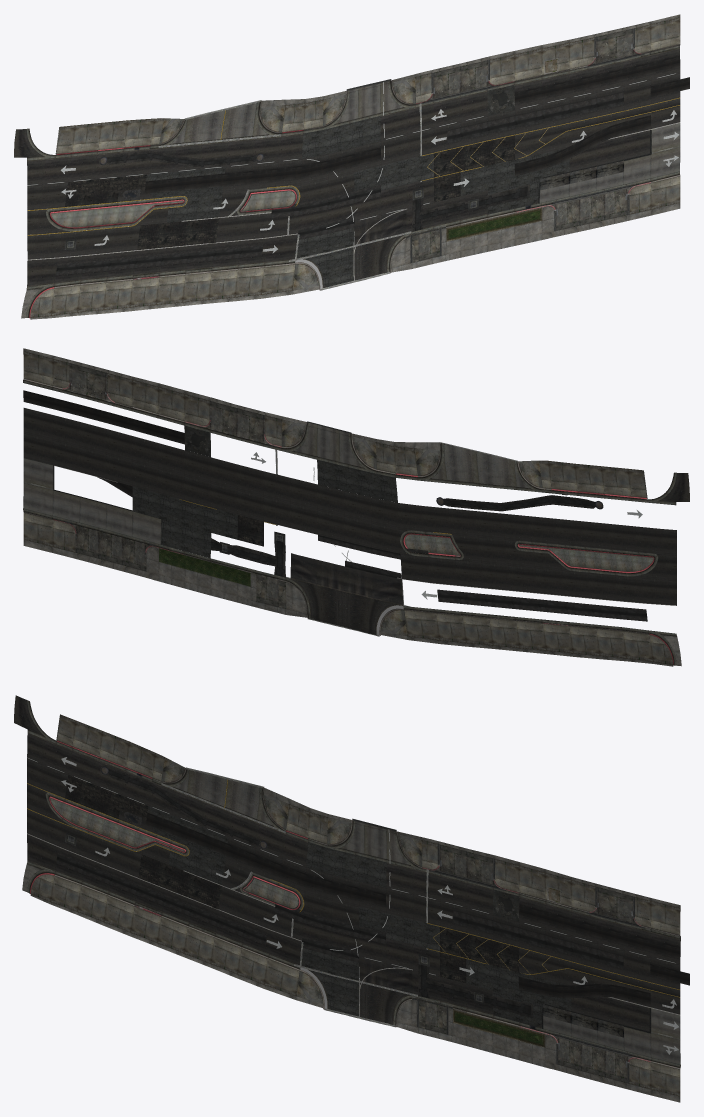
The picture shows the model from 3 angles, top to bottom: view 1: azimuth 30°, elevation 25°; view 2: azimuth 150°, elevation 25°; view 3: azimuth 330°, elevation 25°; orthographic projection.
Parts seen in each view (by area): view 1: sc1_rd_r1_06; view 2: sc1_rd_r1_06; view 3: sc1_rd_r1_06.
Part boxes in pixels (x1=…): sc1_rd_r1_06: x1=14, y1=14, x2=689, y2=319; sc1_rd_r1_06: x1=23, y1=348, x2=689, y2=666; sc1_rd_r1_06: x1=14, y1=695, x2=689, y2=1102.
Size of the model in its own units: 15167 by 5110 by 238.
